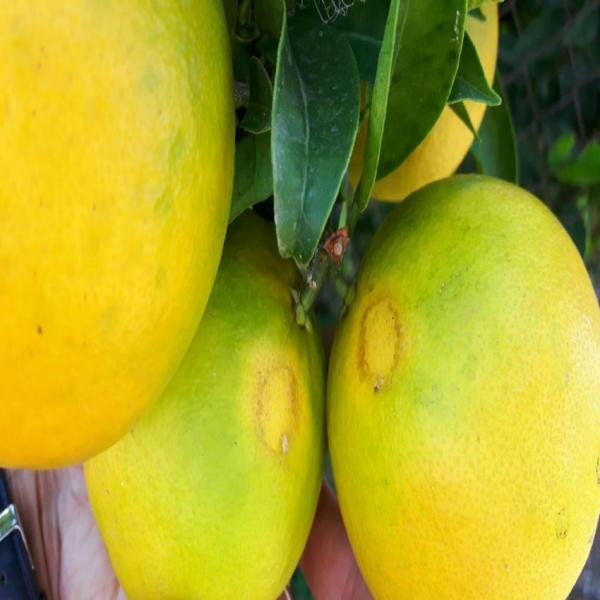Trips: (324, 169, 598, 598), (0, 0, 239, 475), (76, 229, 333, 595), (307, 0, 503, 218)
